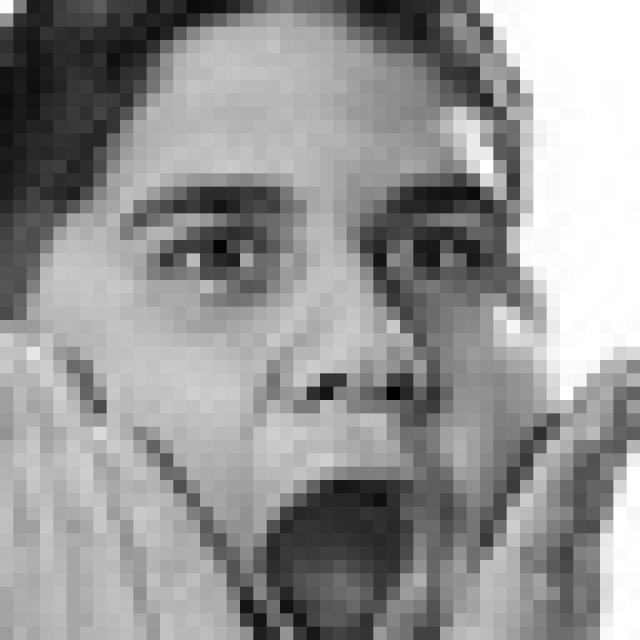fear: (116, 174, 521, 640)
